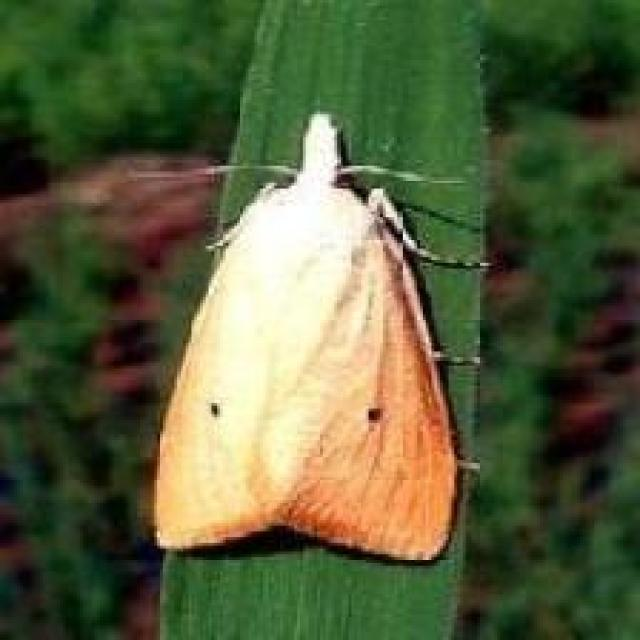yellow-stem-borer: (115, 89, 525, 572)
